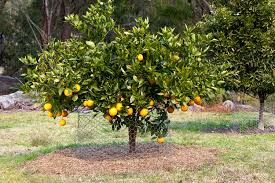orange: (108, 107, 118, 118), (124, 107, 133, 117)
